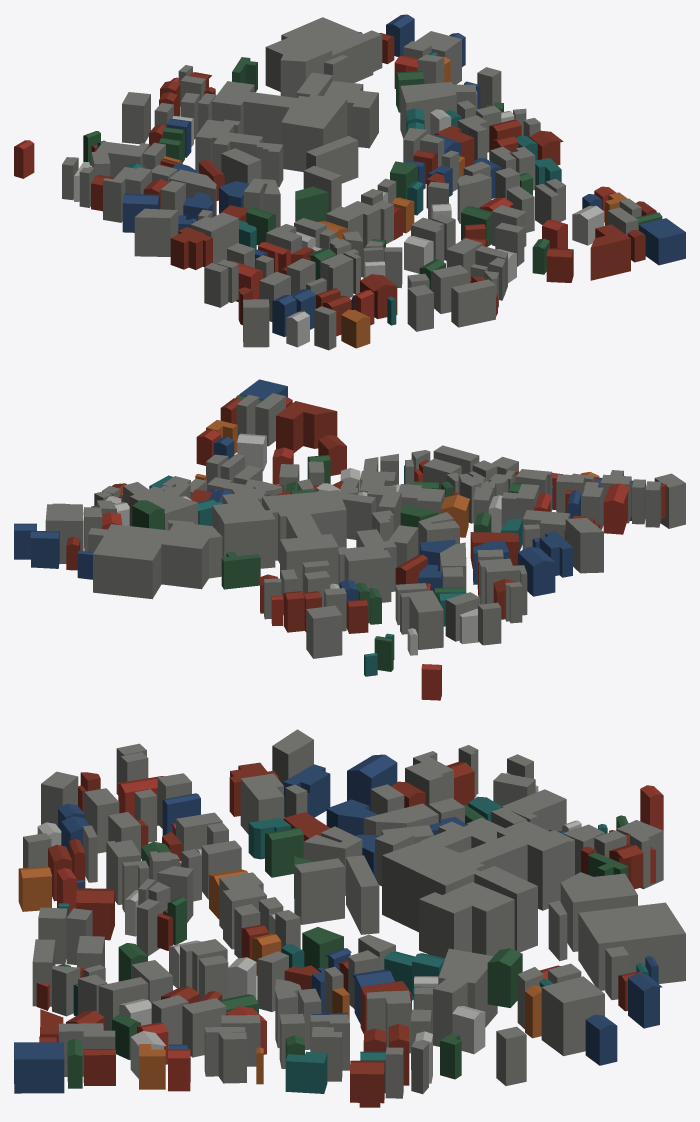
Rendered from near-17-109440-59476.9a0d29ae.glb.
3 views of the same model, one above another, from view 1: azimuth 30°, elevation 25°; view 2: azimuth 150°, elevation 25°; view 3: azimuth 270°, elevation 25° (orthographic). The views are drawn at different scales.
Bounding box in the file's own units: 311 × 68.52 × 313.
